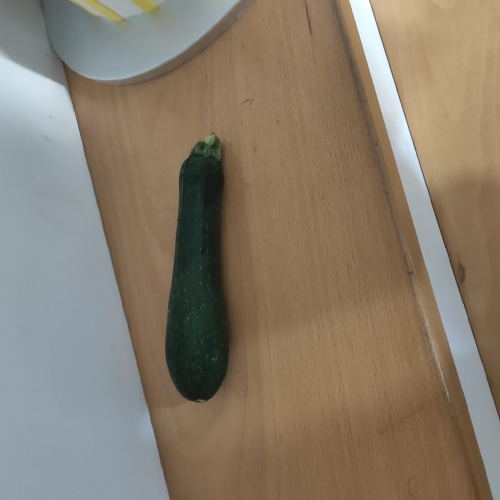zucchine: (165, 139, 240, 403)
